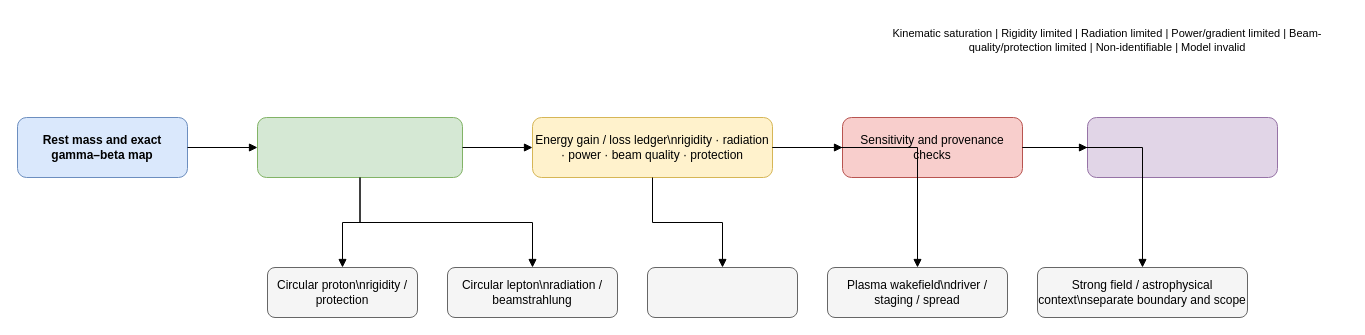
Some shapes in this 1365 by 335 pixel diagram are drawn without their labels. Each missing label, with the box of its shape:
Architecture model card\n(particle, ring/linear/plasma/field scope): (256, 116, 462, 178)
Conditional constraint classification: (1086, 116, 1278, 178)
Linear RF\ngradient / power: (646, 266, 798, 318)
